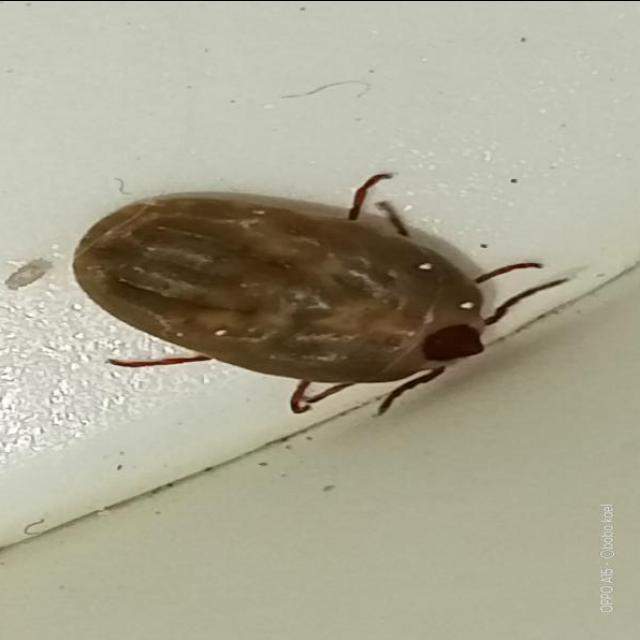Rhipicephalus Sanguineus-F-Fed: (72, 172, 576, 416)
